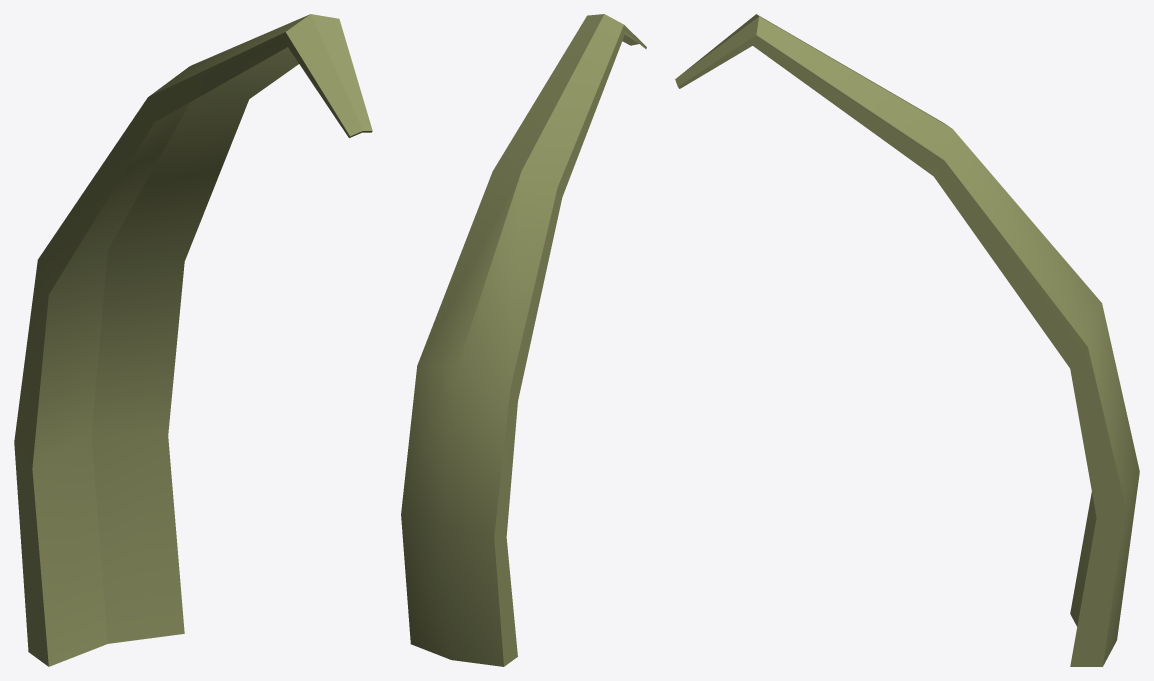
The model's file is SM_Grass_Blade_06.fbx.
The picture shows the model from 3 angles, left to right: view 1: azimuth 30°, elevation 25°; view 2: azimuth 150°, elevation 25°; view 3: azimuth 270°, elevation 25°; orthographic projection. The views are drawn at different scales.
Parts seen in each view (by area): view 1: SM_Grass_Blade_06; view 2: SM_Grass_Blade_06; view 3: SM_Grass_Blade_06.
Boxes of the visible parts, left/top/right/bottom form: SM_Grass_Blade_06: left=14, top=14, right=372, bottom=666; SM_Grass_Blade_06: left=401, top=14, right=646, bottom=666; SM_Grass_Blade_06: left=675, top=14, right=1139, bottom=666.
Size of the model in its own units: 19.69 by 108 by 72.78.
